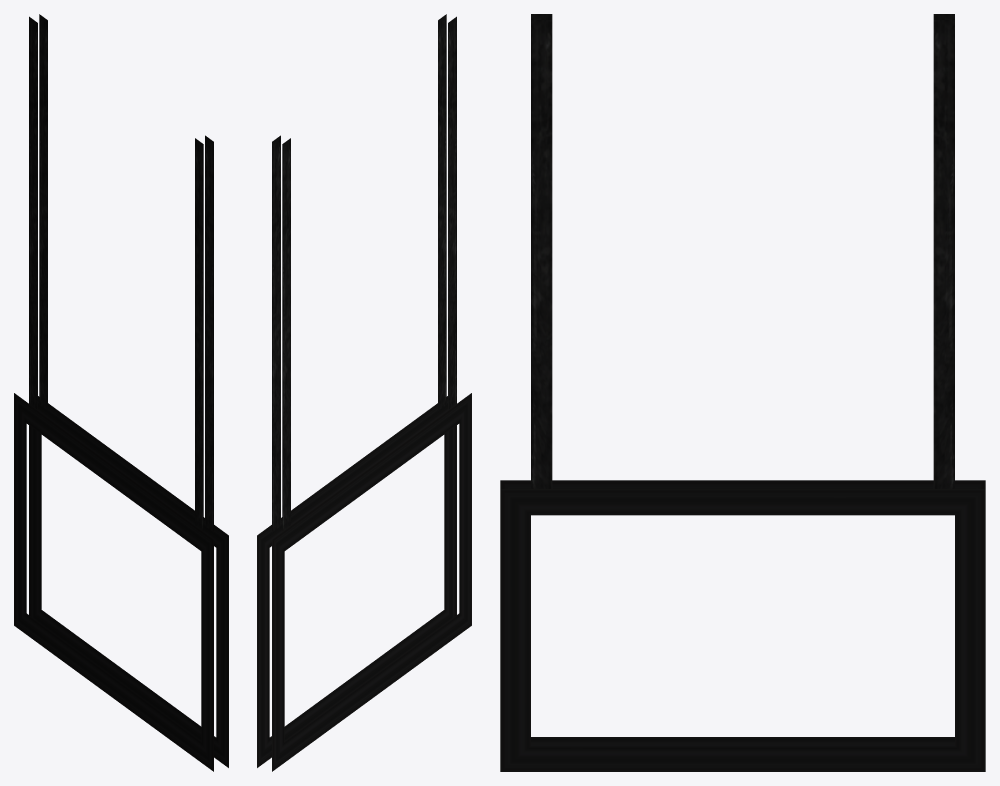
The model's file is p6_duct_rect_sml_hanger_white_lod1.glb.
The picture shows the model from 3 angles, left to right: view 1: azimuth 30°, elevation 25°; view 2: azimuth 150°, elevation 25°; view 3: azimuth 270°, elevation 25°; orthographic projection. The views are drawn at different scales.
Visible parts, largest first — view 1: surf0; view 2: surf0; view 3: surf0.
Boxes of the visible parts, <box> form: surf0: <box>14,14,228,771</box>; surf0: <box>257,14,471,771</box>; surf0: <box>500,14,985,771</box>.
Size of the model in its own units: 0.988 by 39.06 by 22.91.
